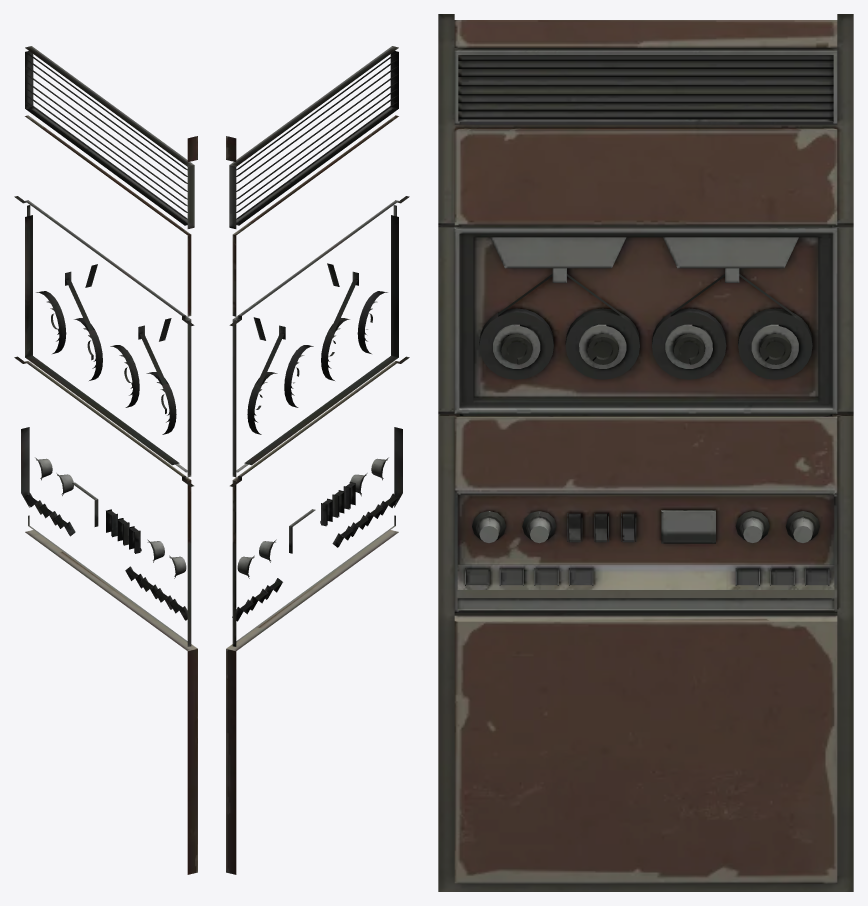
3 renders of one model, left to right at view 1: azimuth 30°, elevation 25°; view 2: azimuth 150°, elevation 25°; view 3: azimuth 270°, elevation 25°, orthographic. The views are drawn at different scales.
Visible parts, largest first — view 1: body0_model0_lod0_mesh0; view 2: body0_model0_lod0_mesh0; view 3: body0_model0_lod0_mesh0.
Part boxes in pixels (x1,y1,x2,y2): body0_model0_lod0_mesh0: [14, 46, 197, 874]; body0_model0_lod0_mesh0: [226, 46, 409, 874]; body0_model0_lod0_mesh0: [438, 14, 853, 891].
Size of the model in its own units: 2.79 by 112 by 47.99.
Materials: 1 (1 with a texture image).
